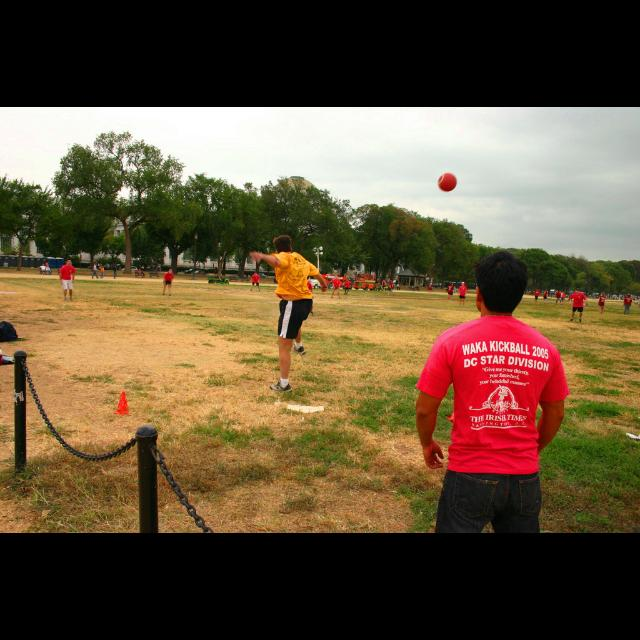Football: (437, 170, 457, 190)
